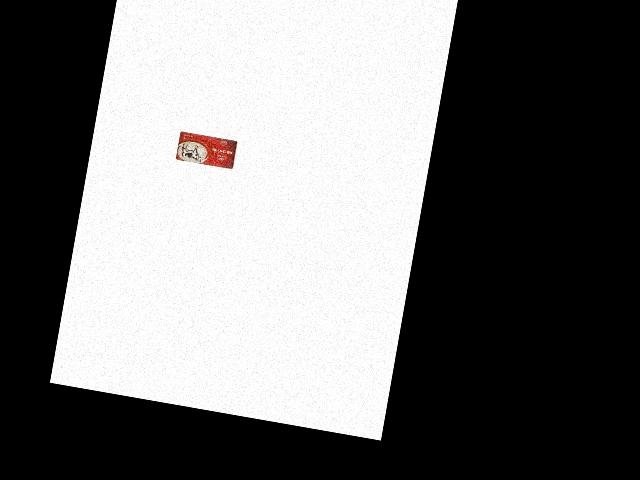chocolate: (175, 129, 239, 169)
